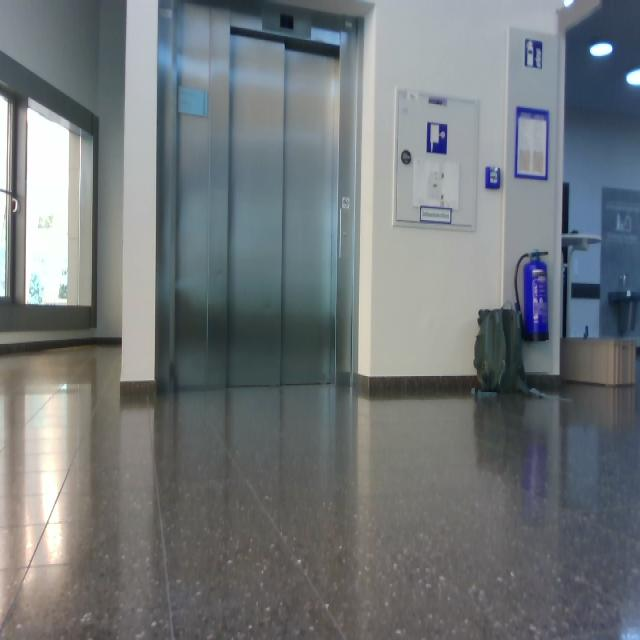door: (228, 28, 340, 388)
fire extinguisher: (515, 251, 550, 343)
light bulb: (589, 43, 613, 59), (626, 68, 640, 86), (563, 1, 575, 8)
tiled floor: (2, 343, 639, 639)
